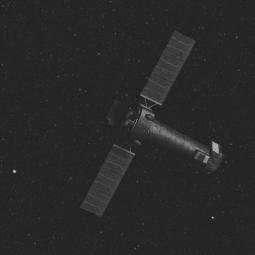xmm_newton: (84, 41, 236, 197)
